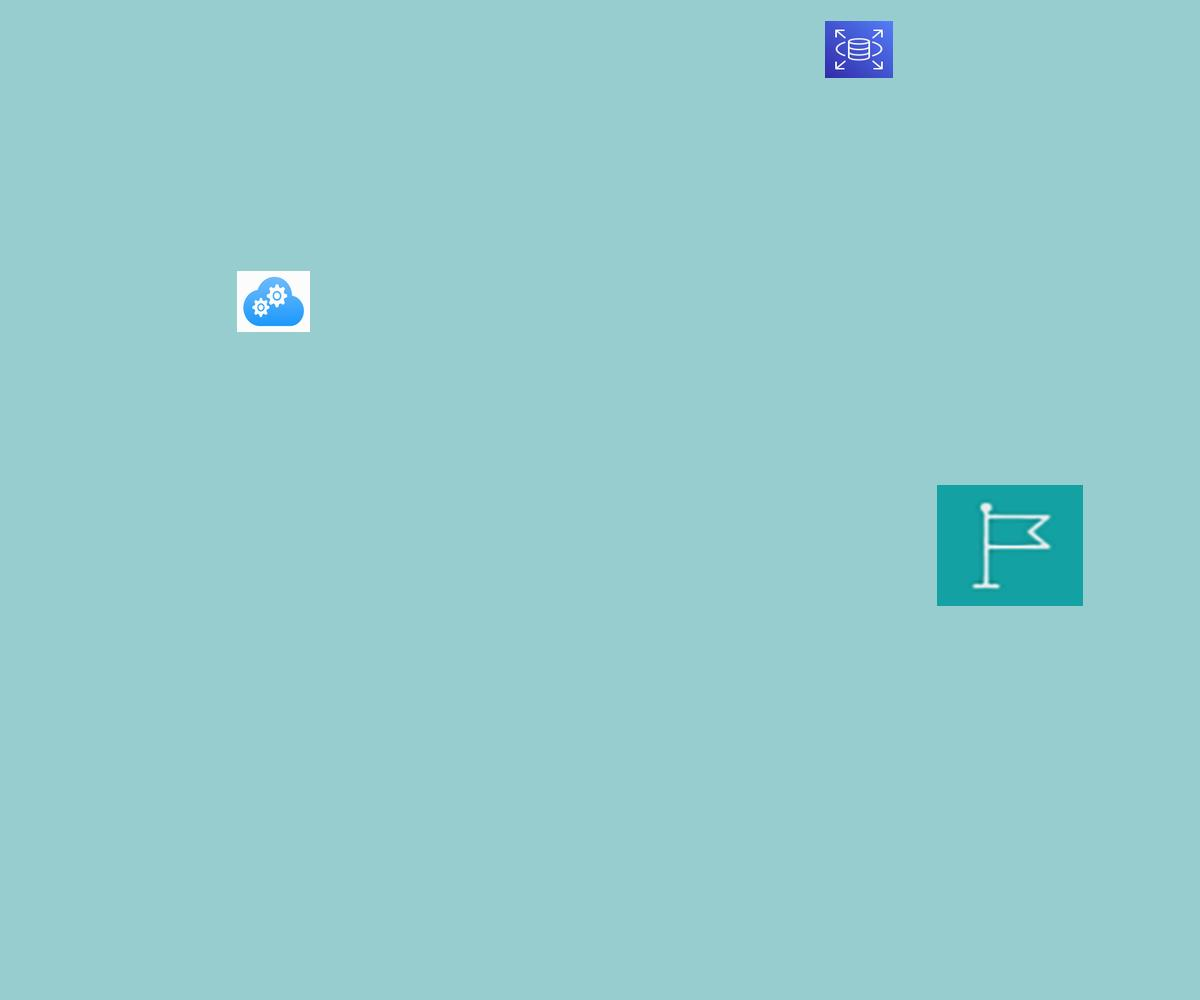AWS-RDS: (825, 21, 893, 78)
AWS-Region: (937, 485, 1083, 606)
Azure_cloud_services: (237, 271, 310, 332)
